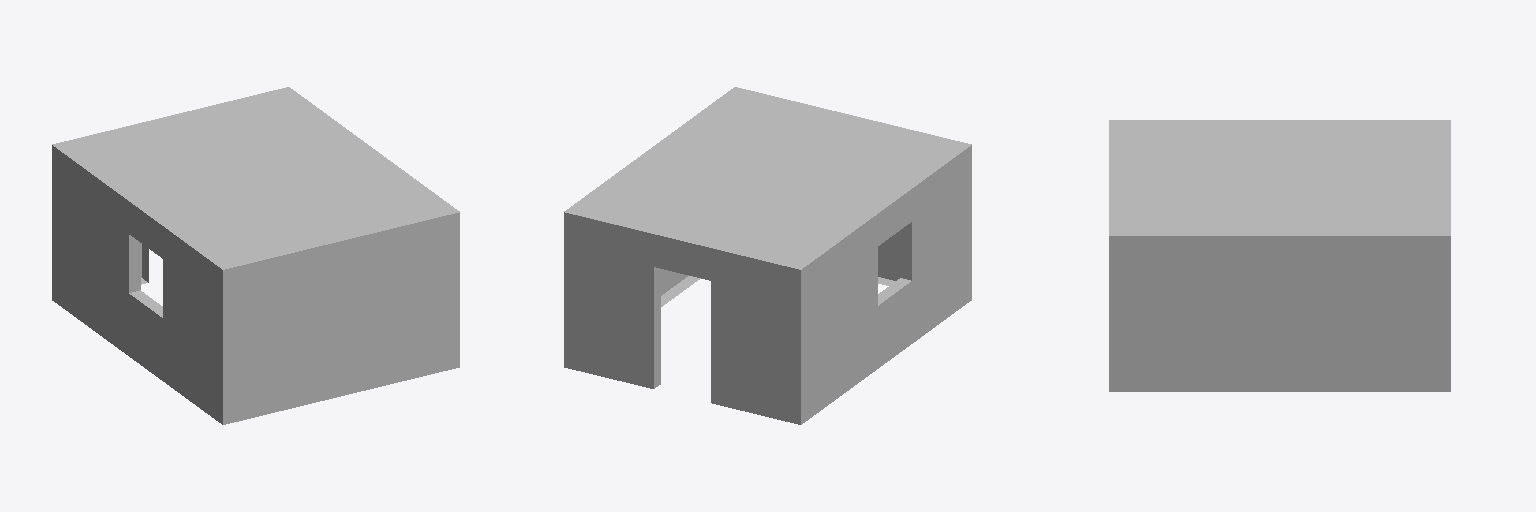
Rendered from roomOutside.obj.
The picture shows the model from 3 angles: view 1: azimuth 30°, elevation 25°; view 2: azimuth 150°, elevation 25°; view 3: azimuth 270°, elevation 25°; orthographic projection.
Parts seen in each view (by area): view 1: room_Cube.002; view 2: room_Cube.002; view 3: room_Cube.002.
Boxes of the visible parts, <box> form: room_Cube.002: <box>52,87,459,424</box>; room_Cube.002: <box>564,87,971,424</box>; room_Cube.002: <box>1109,120,1450,391</box>.
Bounding box in the file's own units: 4 × 2.5 × 5.